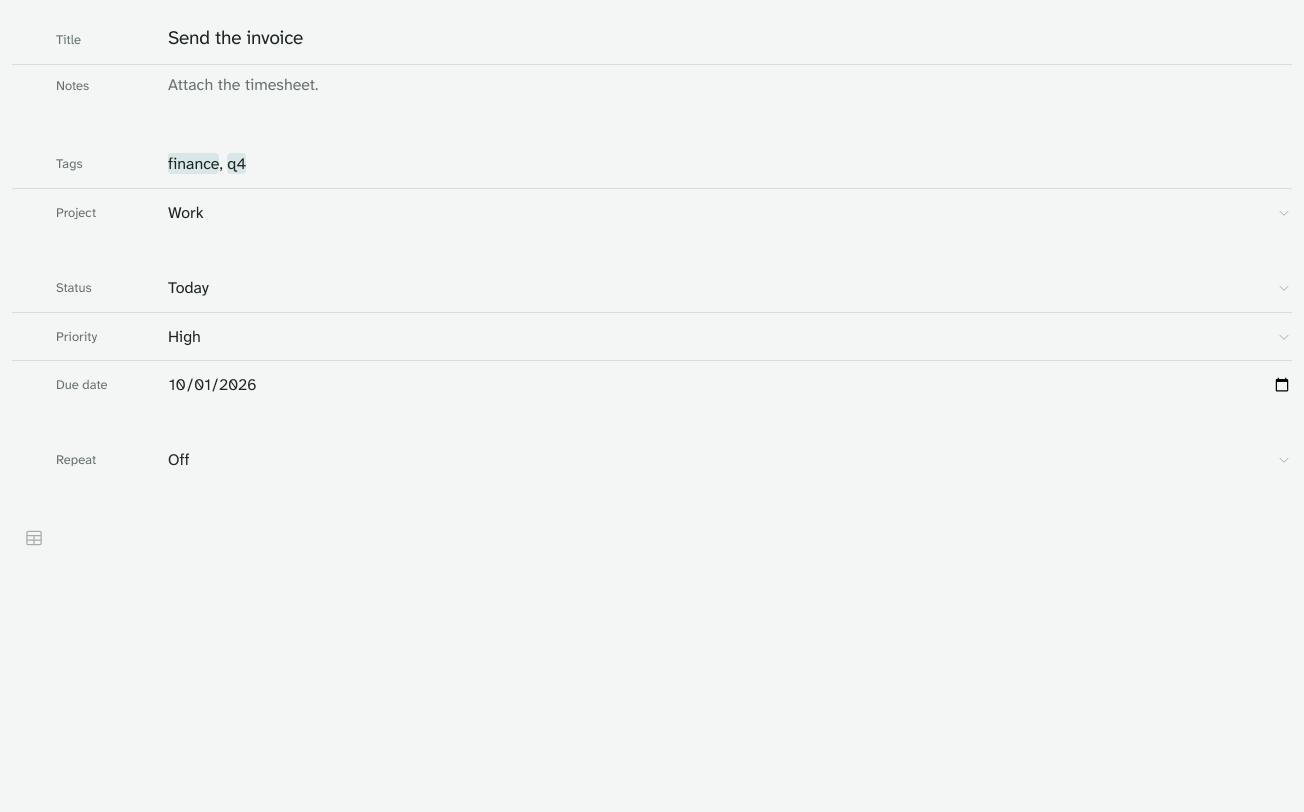
TaskEditor › completes the tag being typed against the names already in use
Step 1. Clear the dropdown labelled "Tags" → (730, 164), box [168, 152, 1292, 176]
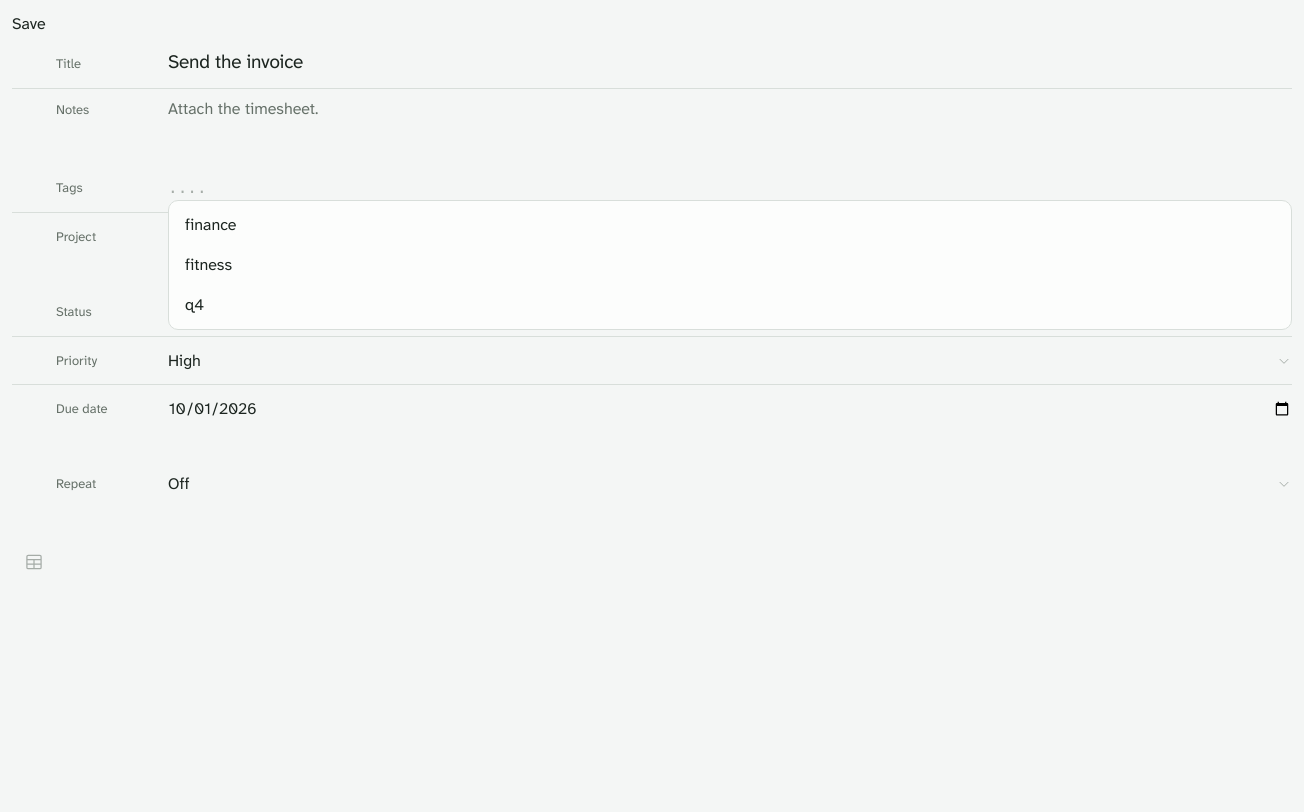
Step 2. Type "fin" into the dropdown labelled "Tags" → (730, 188), box [168, 176, 1292, 200]
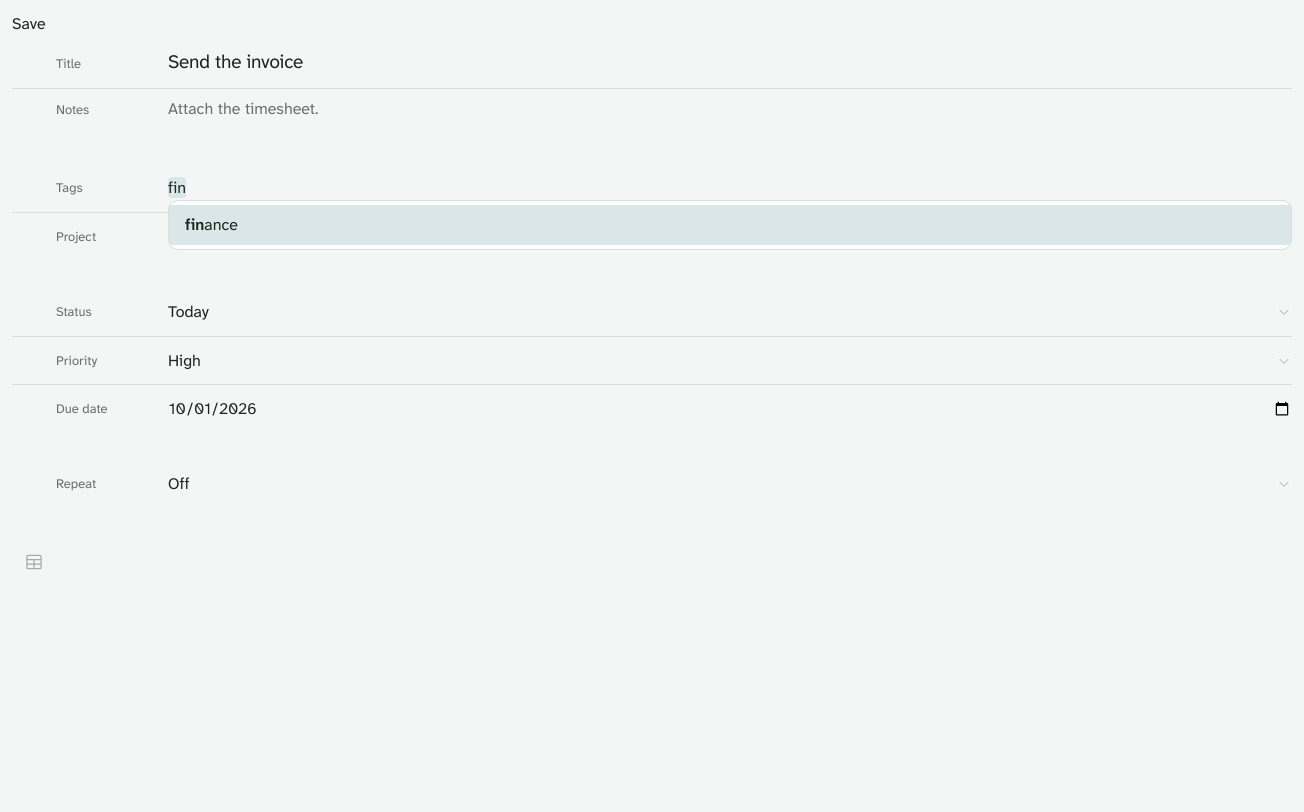
expect the options read "finance", in this order: met, box [169, 205, 1291, 245]
Step 3. Press Enter
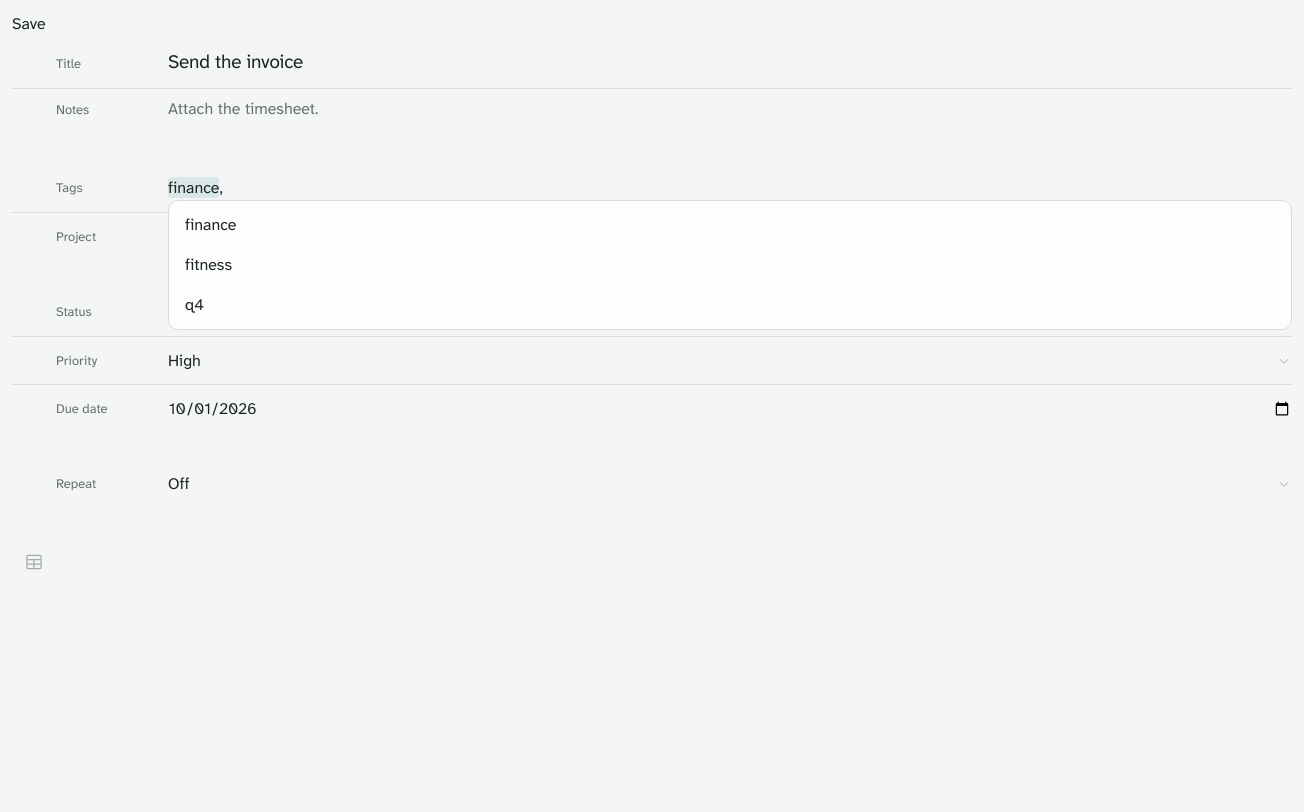
expect the dropdown labelled "Tags" holds "finance, ": met, box [168, 176, 1292, 200]
